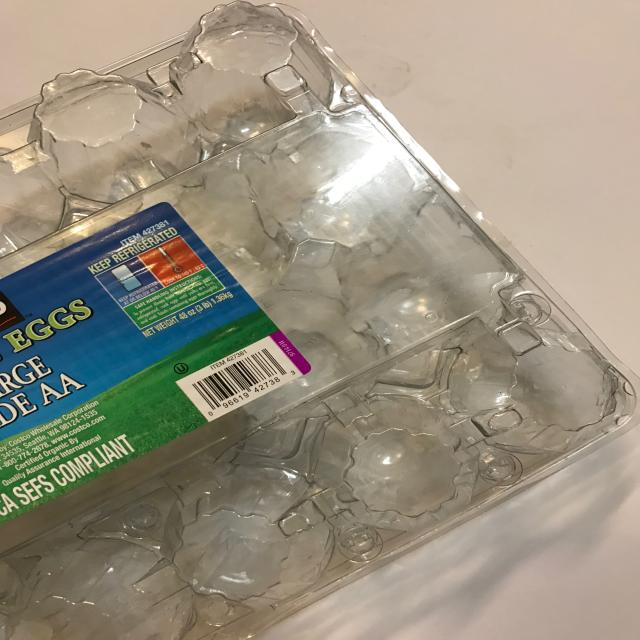plastic: (1, 1, 637, 638)
